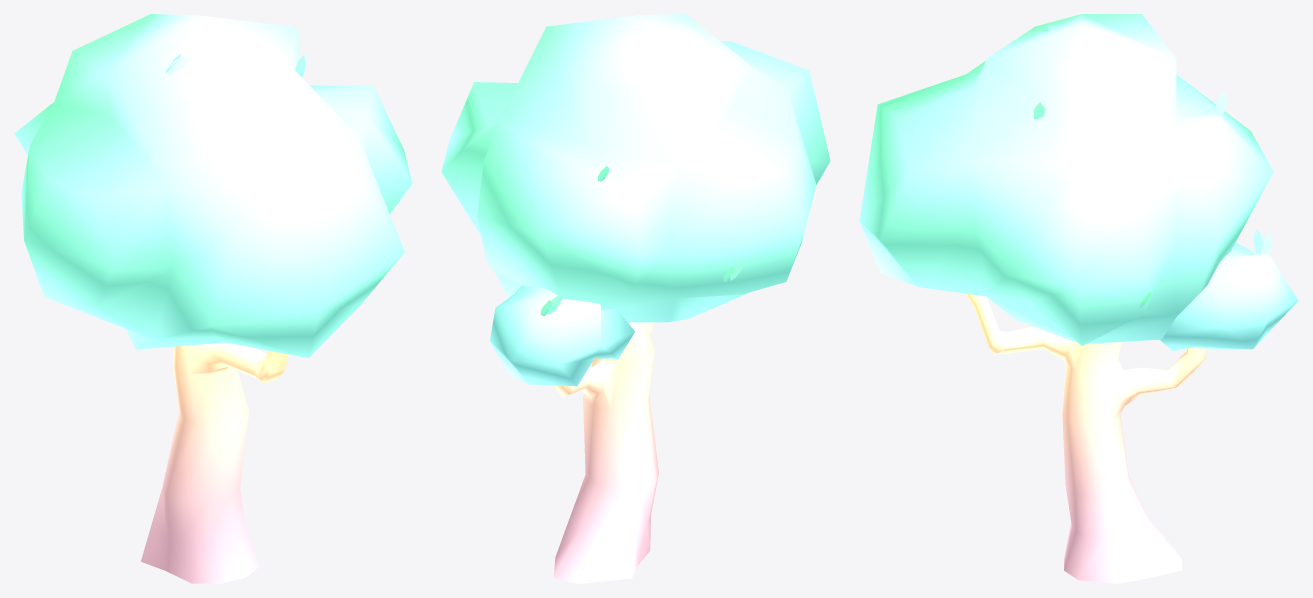
Rendered from Tree_2.glb.
3 views of the same model, side by side, from view 1: azimuth 30°, elevation 25°; view 2: azimuth 150°, elevation 25°; view 3: azimuth 270°, elevation 25° (orthographic). The views are drawn at different scales.
Visible parts, largest first — view 1: Tree2_Material #22_0; view 2: Tree2_Material #22_0; view 3: Tree2_Material #22_0.
Part boxes in pixels (x1,y1,x2,y2): Tree2_Material #22_0: [14, 14, 412, 583]; Tree2_Material #22_0: [441, 14, 830, 583]; Tree2_Material #22_0: [859, 14, 1298, 583].
Bounding box in the file's own units: 6.01 × 8.56 × 6.43.
